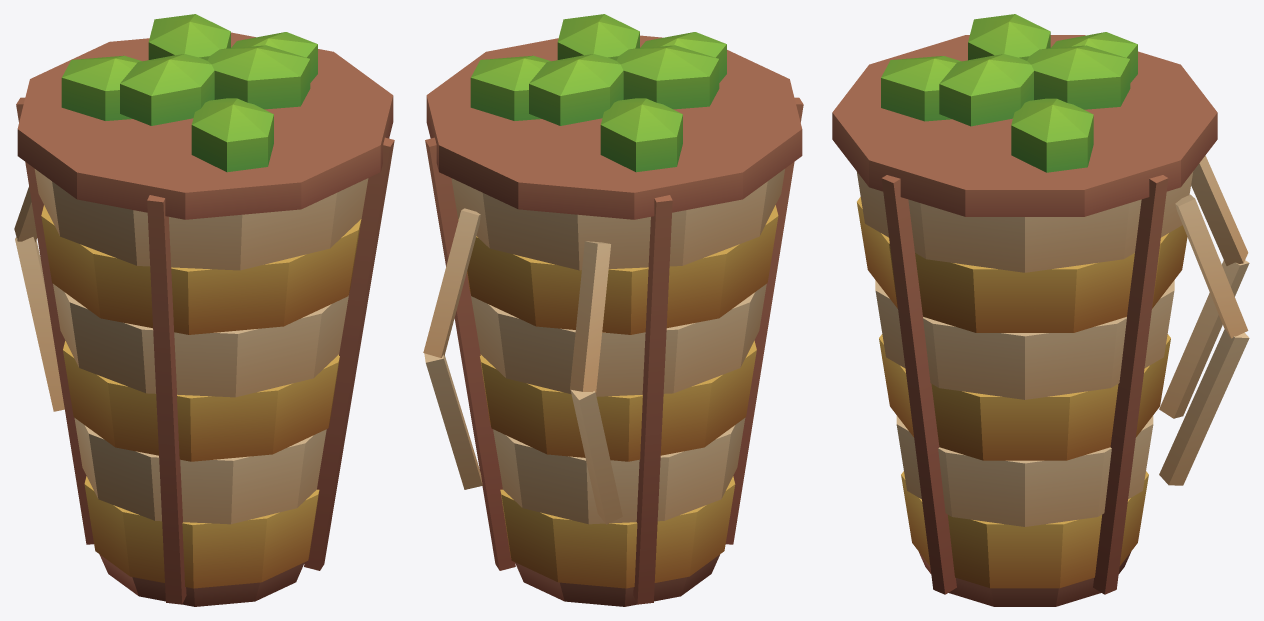
The model's file is picker_basket.glb.
The picture shows the model from 3 angles, left to right: view 1: azimuth 30°, elevation 25°; view 2: azimuth 150°, elevation 25°; view 3: azimuth 270°, elevation 25°; orthographic projection.
Parts seen in each view (by area): view 1: picker_basket; view 2: picker_basket; view 3: picker_basket.
Part boxes in pixels (bbox=[...]): picker_basket: bbox=[14, 14, 394, 606]; picker_basket: bbox=[423, 14, 803, 606]; picker_basket: bbox=[832, 14, 1249, 606].
Size of the model in its own units: 0.5516 by 0.87 by 0.6282.
1 material, 1 textured.
